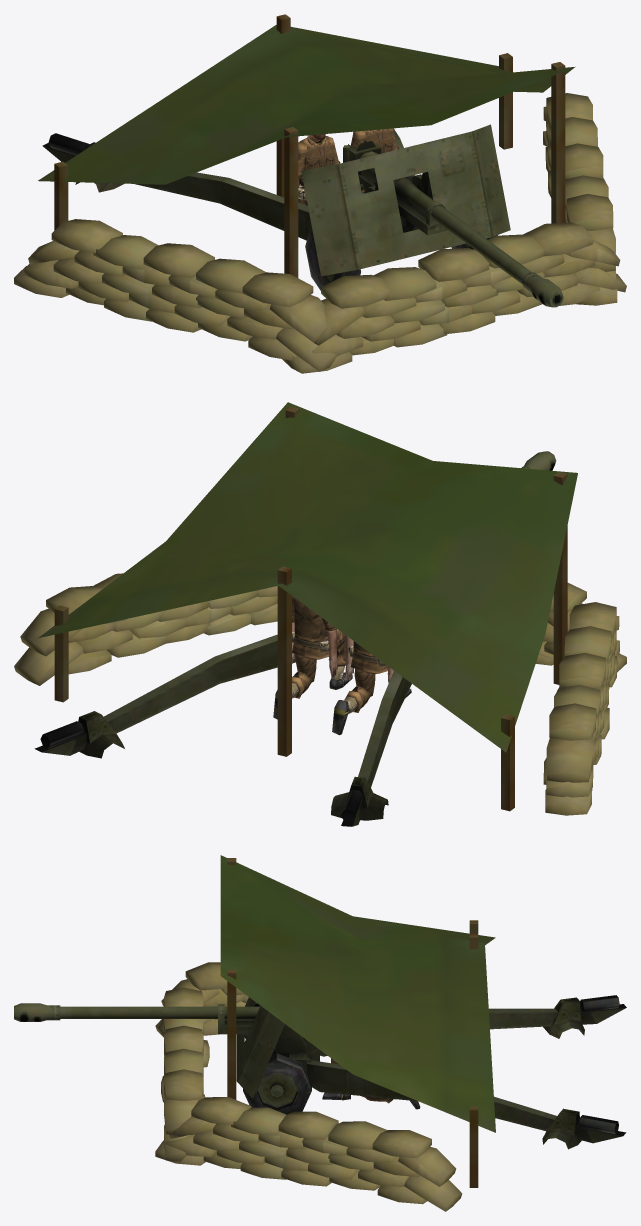
The model's file is GBR17Pdr_Stationary.dae.
3 renders of one model, top to bottom at view 1: azimuth 30°, elevation 25°; view 2: azimuth 150°, elevation 25°; view 3: azimuth 270°, elevation 25°, orthographic. The views are drawn at different scales.
Visible parts, largest first — view 1: base, carriage, barrel, sleeve, torso1; view 2: base, carriage, torso2, torso1; view 3: base, carriage, barrel, sleeve.
Part boxes in pixels (left/top/right/bottom): base: left=14, top=14, right=626, bottom=373; carriage: left=42, top=124, right=510, bottom=290; barrel: left=343, top=140, right=563, bottom=307; sleeve: left=358, top=175, right=447, bottom=235; torso1: left=298, top=135, right=334, bottom=204; base: left=14, top=402, right=626, bottom=815; carriage: left=34, top=634, right=411, bottom=826; torso2: left=292, top=598, right=329, bottom=659; torso1: left=348, top=641, right=387, bottom=673; base: left=155, top=855, right=495, bottom=1211; carriage: left=236, top=995, right=626, bottom=1149; barrel: left=14, top=1003, right=259, bottom=1021; sleeve: left=218, top=1004, right=254, bottom=1035.
Bounding box in the file's own units: 51.33 × 55.67 × 18.15.
